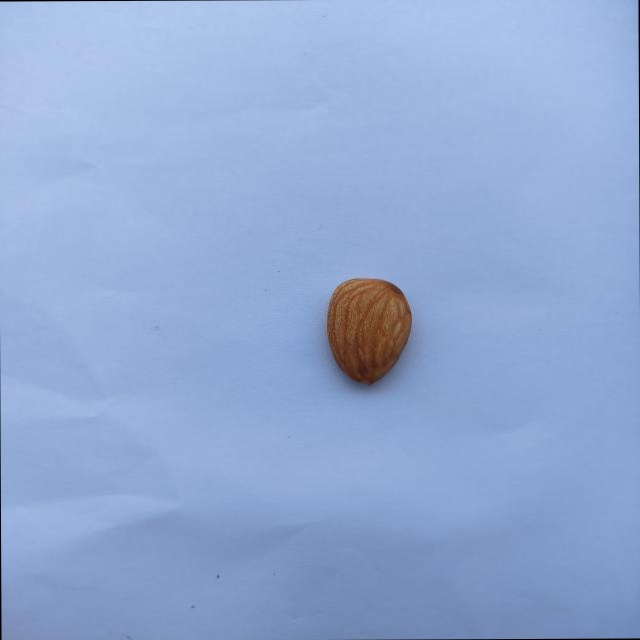grade1: (317, 271, 419, 393)
